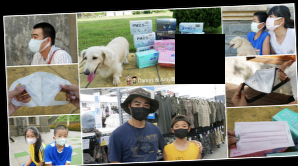with_mask: (129, 100, 151, 122), (27, 32, 46, 54), (173, 122, 189, 140), (265, 14, 280, 31), (55, 132, 69, 147), (250, 18, 262, 34), (25, 132, 37, 145)
